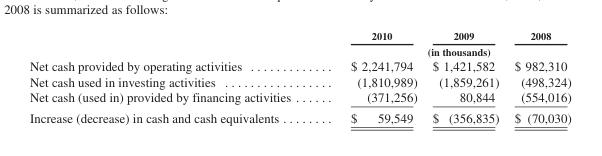table: (28, 29, 570, 124)
table column: (28, 29, 320, 124), (320, 29, 424, 124), (424, 29, 506, 124), (506, 29, 570, 124)
table column header: (28, 29, 570, 57)
table row: (28, 88, 570, 107), (28, 107, 570, 124), (28, 57, 570, 73), (28, 73, 570, 88), (28, 29, 570, 43), (28, 43, 570, 57)
table spanning cell: (320, 43, 570, 57)
